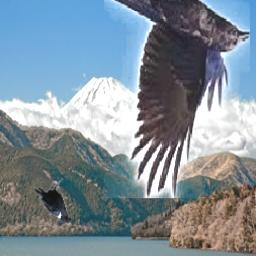Crow: (104, 0, 250, 199), (34, 178, 72, 224)
